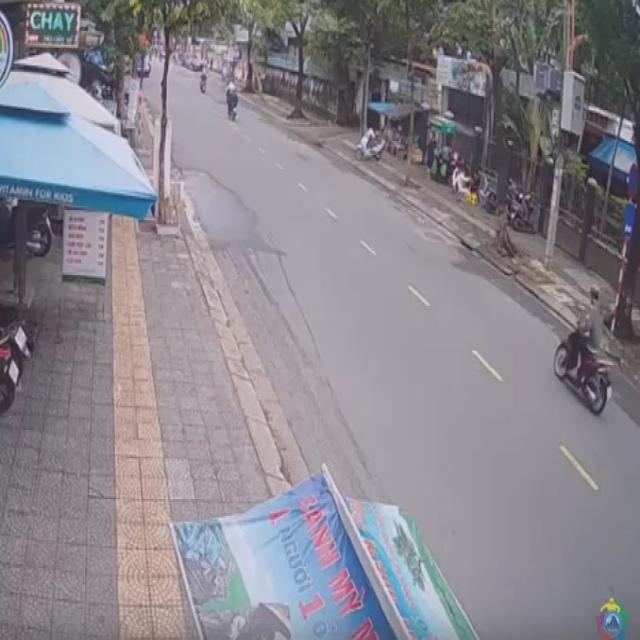motorbike: (548, 285, 616, 416)
